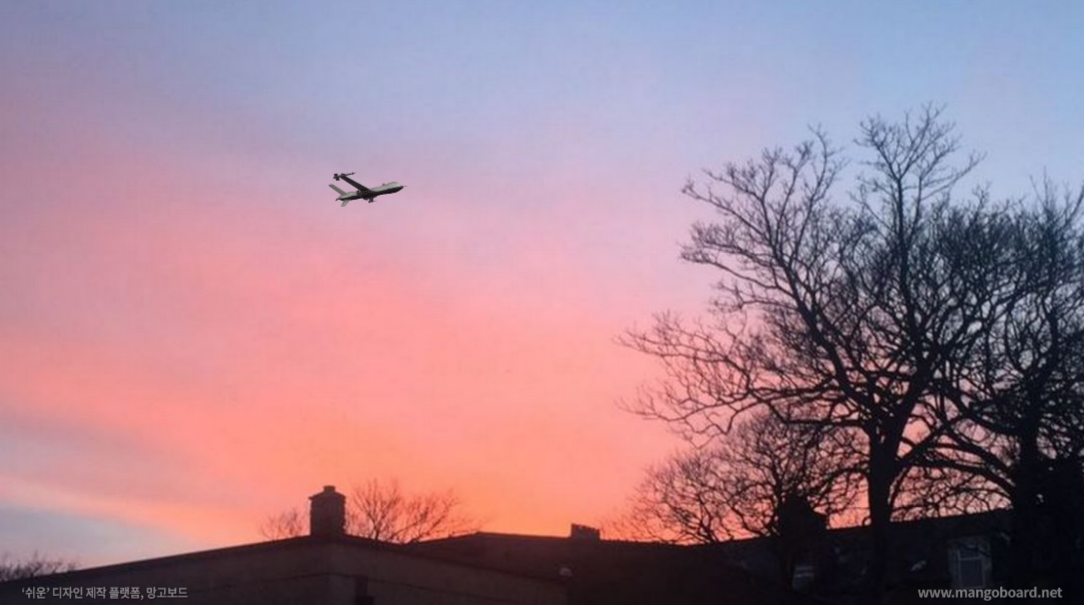military drone: (328, 171, 407, 207)
